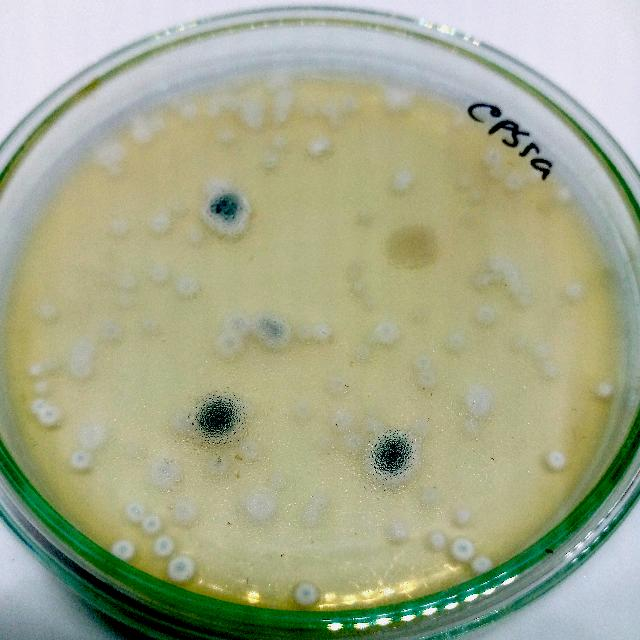colony: (186, 390, 252, 450), (384, 220, 446, 276), (366, 430, 422, 488), (198, 190, 254, 240), (90, 138, 128, 174), (253, 319, 294, 351), (104, 535, 142, 569), (288, 576, 322, 612), (164, 550, 198, 586), (461, 386, 499, 418), (147, 460, 180, 492), (124, 114, 156, 146), (243, 493, 277, 523), (74, 420, 108, 450), (382, 83, 416, 113), (200, 450, 233, 480), (215, 332, 248, 361), (372, 319, 402, 347), (442, 326, 472, 354), (465, 552, 497, 578), (170, 499, 200, 526), (382, 518, 410, 546), (69, 446, 97, 474), (590, 376, 618, 404), (147, 212, 175, 240), (447, 538, 477, 564), (540, 448, 570, 474), (268, 66, 300, 90), (150, 531, 176, 559), (238, 438, 266, 464), (472, 300, 498, 328), (336, 90, 362, 118), (536, 356, 564, 382), (105, 213, 131, 239), (508, 284, 536, 308), (138, 513, 164, 537), (176, 276, 200, 302), (35, 298, 59, 324), (148, 259, 172, 285), (300, 503, 324, 529), (305, 134, 329, 160), (241, 110, 267, 134), (36, 404, 62, 428), (182, 221, 204, 249), (203, 174, 231, 196), (292, 395, 314, 423), (272, 90, 300, 112), (468, 271, 496, 293), (388, 167, 414, 190), (501, 170, 524, 196), (200, 95, 226, 118), (449, 504, 473, 528), (120, 498, 144, 522), (292, 319, 316, 343), (563, 280, 587, 304), (268, 132, 292, 156), (325, 410, 351, 432), (528, 339, 554, 361), (487, 253, 513, 274), (418, 484, 442, 506), (70, 358, 94, 380), (257, 150, 281, 172), (176, 100, 198, 124), (336, 433, 362, 453), (500, 268, 526, 288), (71, 338, 97, 358), (554, 185, 576, 208), (326, 373, 348, 395), (228, 312, 250, 334), (424, 530, 448, 550), (116, 270, 140, 290), (138, 314, 158, 338), (213, 124, 234, 146), (300, 101, 322, 121), (412, 416, 433, 436), (102, 320, 121, 342), (313, 322, 333, 342), (272, 108, 292, 128), (31, 377, 53, 395), (28, 397, 50, 415), (353, 341, 372, 361), (483, 147, 503, 165), (419, 369, 438, 386), (414, 354, 432, 371), (25, 362, 43, 376)
